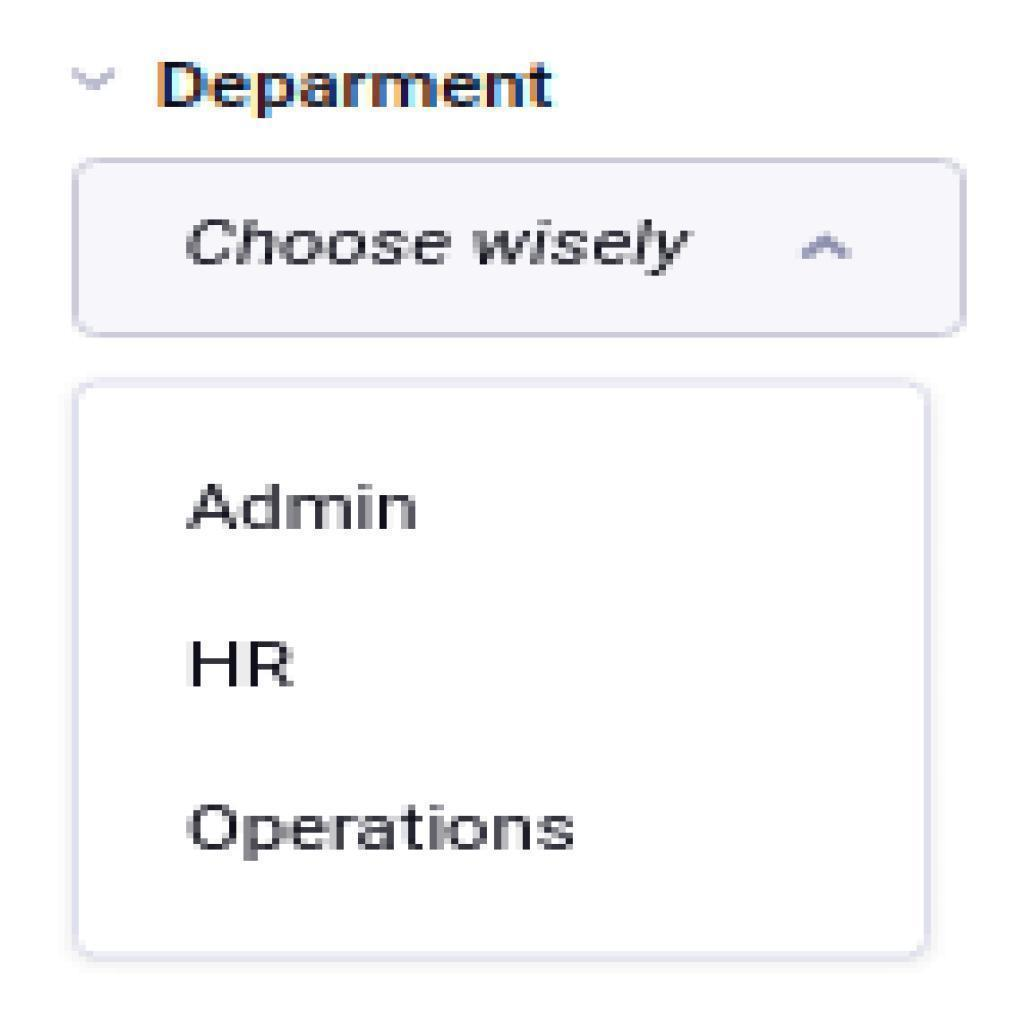dropdown: (78, 160, 965, 333)
